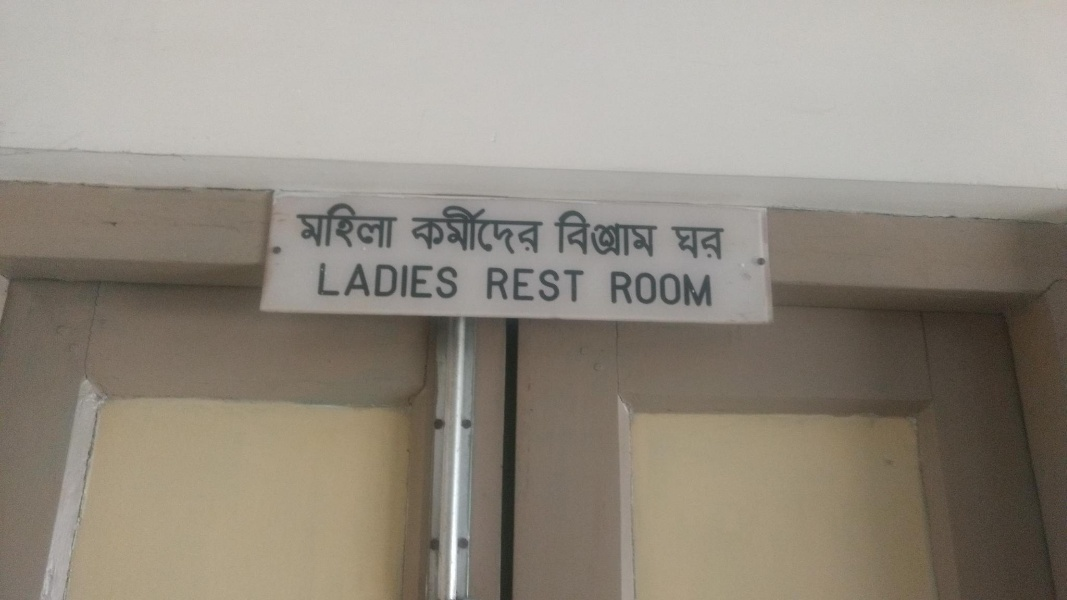text: (417, 202, 432, 259), (433, 202, 448, 259), (449, 202, 464, 259), (465, 202, 480, 259), (481, 202, 496, 259), (497, 202, 512, 259), (513, 202, 528, 259), (529, 202, 544, 259), (561, 205, 576, 260), (577, 205, 592, 260), (593, 205, 608, 260), (609, 205, 624, 260), (625, 205, 640, 260), (641, 205, 656, 260), (305, 202, 320, 249), (321, 202, 336, 249), (337, 202, 352, 249), (353, 202, 368, 249), (369, 202, 384, 249), (385, 202, 400, 249), (673, 223, 688, 261), (689, 223, 704, 261), (705, 223, 720, 261), (321, 261, 336, 299), (337, 261, 352, 299), (353, 261, 368, 299), (369, 261, 384, 299), (385, 261, 400, 299), (401, 261, 416, 299), (417, 261, 432, 299), (433, 261, 448, 299), (497, 267, 512, 303), (513, 267, 528, 303), (529, 267, 544, 303), (545, 267, 560, 303), (561, 267, 576, 303), (625, 271, 640, 307), (641, 271, 656, 307), (657, 271, 672, 307), (673, 271, 688, 307), (689, 271, 704, 307), (449, 261, 463, 299), (611, 271, 624, 307), (552, 205, 560, 260), (295, 202, 304, 249), (486, 267, 496, 303), (577, 267, 585, 303), (721, 223, 728, 261), (705, 271, 712, 307), (412, 202, 416, 259), (669, 223, 672, 261), (657, 205, 659, 260)
